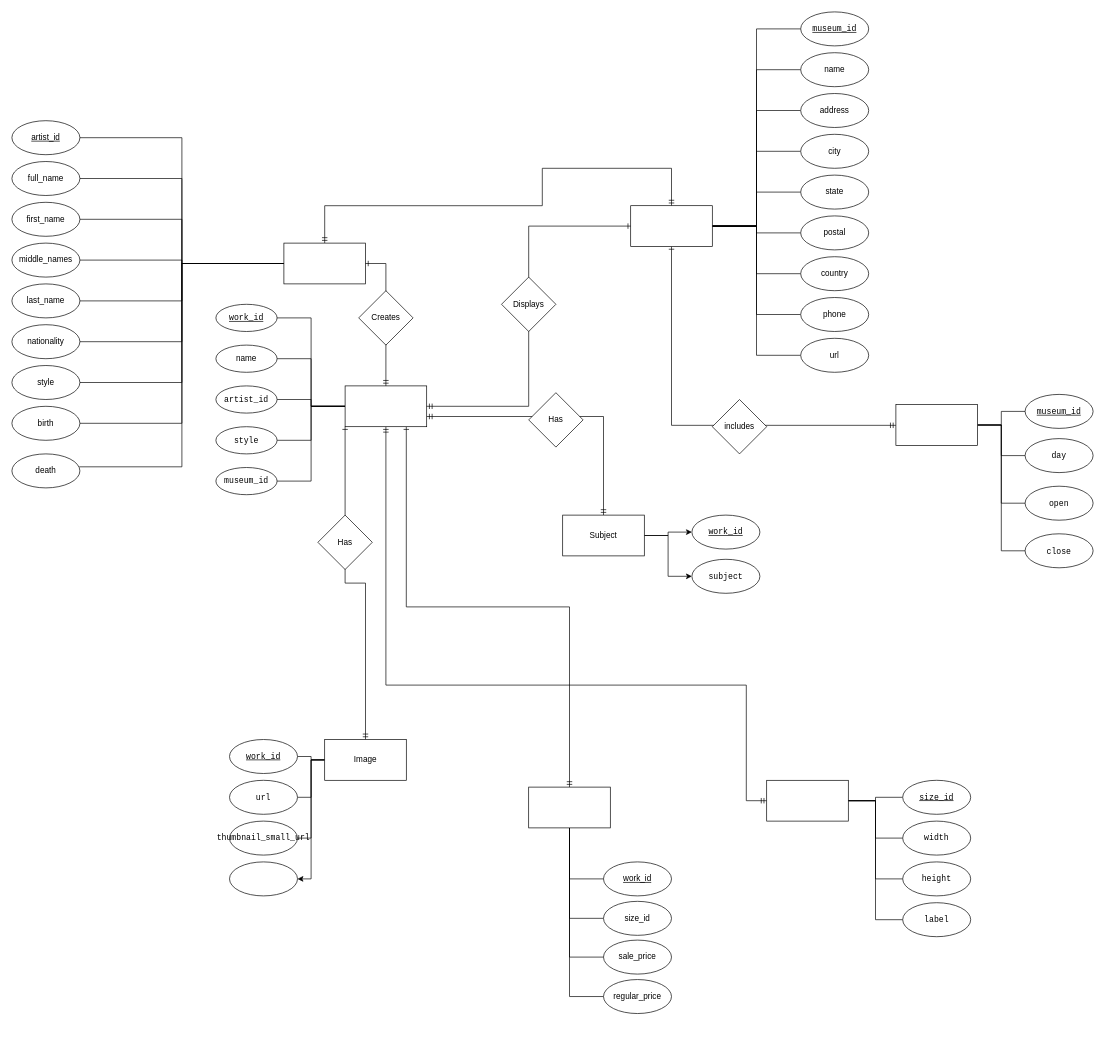
Image size: 1105x1064. Some labels were removed from this diagram. The shapes that lost their labels are listed below. From the top down, each one's centre as x and y in pixels, then its label:
pixel 671 226: Museum
pixel 324 263: Artist
pixel 385 406: Artwork
pixel 936 424: Museum Hours
pixel 569 807: Product Size
pixel 807 800: Canvas Size
pixel 263 878: thumbnail_large_url
